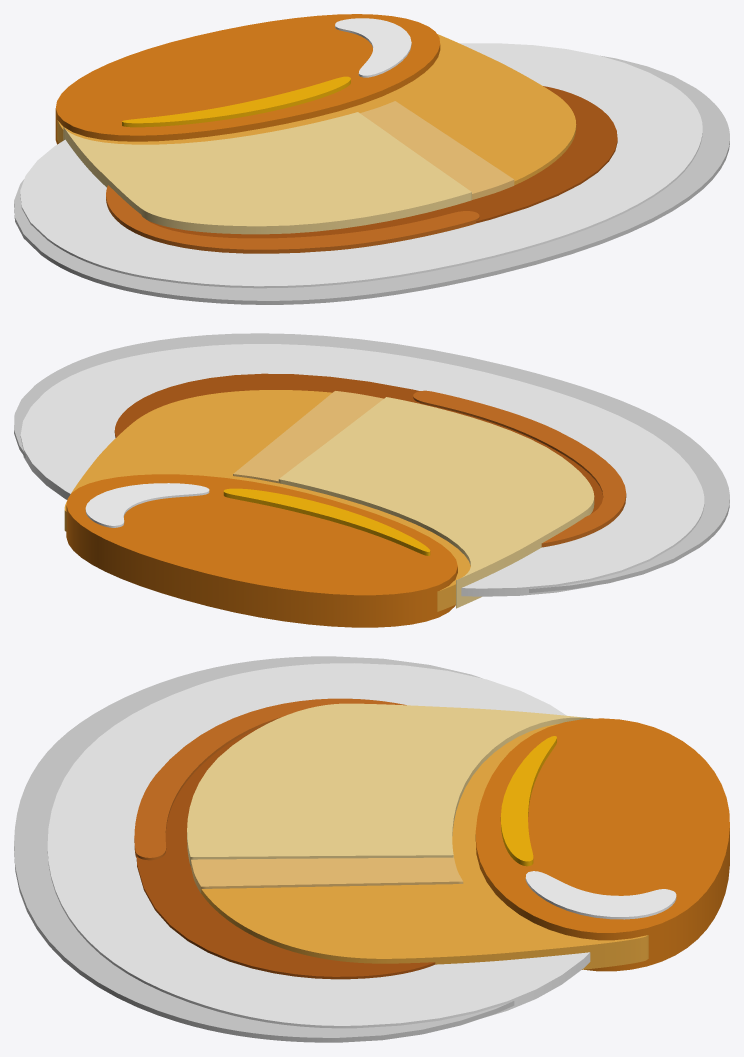
Rendered from emoji_u1f36e.glb.
3 renders of one model, top to bottom at view 1: azimuth 30°, elevation 25°; view 2: azimuth 150°, elevation 25°; view 3: azimuth 270°, elevation 25°, orthographic. The views are drawn at different scales.
Visible parts, largest first — view 1: emoji_u1f36e; view 2: emoji_u1f36e; view 3: emoji_u1f36e.
Part boxes in pixels (left/top/right/bottom): emoji_u1f36e: left=14, top=14, right=729, bottom=304; emoji_u1f36e: left=14, top=333, right=729, bottom=627; emoji_u1f36e: left=14, top=656, right=729, bottom=1042.
Size of the model in its own units: 0.0341 by 0.002 by 0.027.
